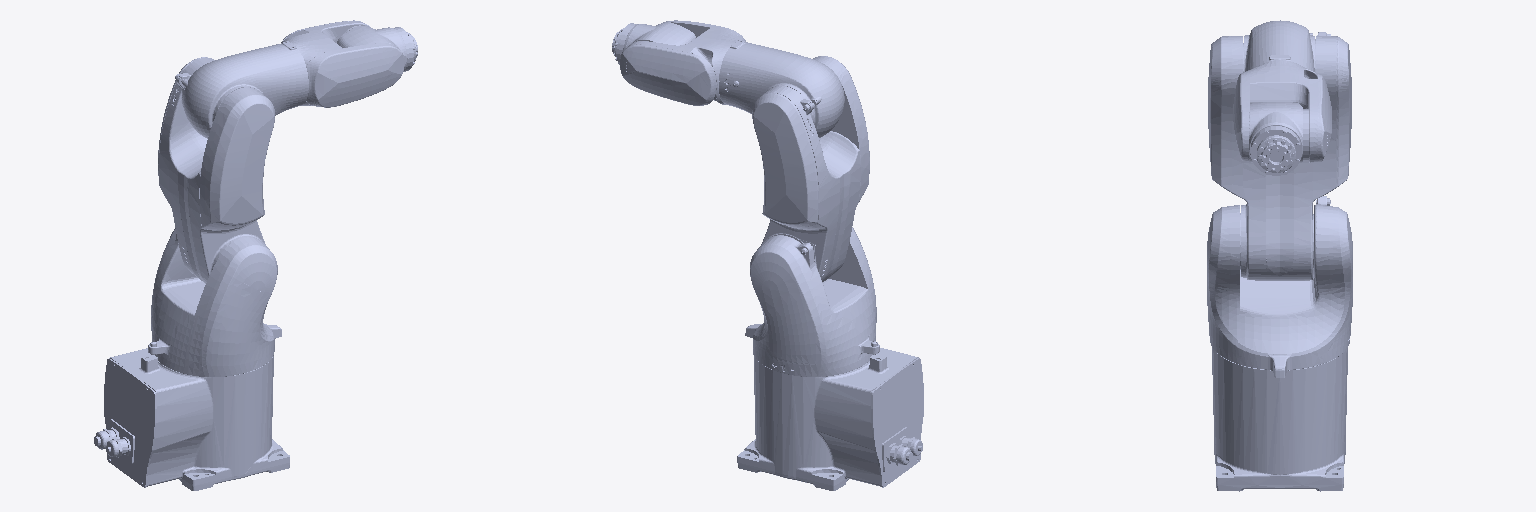
URDF robot description (kuka_kr3r540):
<?xml version="1.0" encoding="utf-8"?>
<!-- This URDF was automatically created by SolidWorks to URDF Exporter! Originally created by Stephen Brawner (brawner@gmail.com) 
     Commit Version: 1.6.0-4-g7f85cfe  Build Version: 1.6.7995.38578
     For more information, please see http://wiki.ros.org/sw_urdf_exporter -->
<robot
  name="kuka_kr3r540">
  <link
    name="base_link">
    <inertial>
      <origin
        xyz="-0.0315215334491069 0.000127934545352644 0.0932751186847806"
        rpy="0 0 0" />
      <mass
        value="6.53990364753836" />
      <inertia
        ixx="0.0308755177896678"
        ixy="1.36921645693399E-05"
        ixz="0.000970615859487308"
        iyy="0.0443024186474305"
        iyz="1.92918544432685E-05"
        izz="0.0409064329987161" />
    </inertial>
    <visual>
      <origin
        xyz="0 0 0"
        rpy="0 0 0" />
      <geometry>
        <mesh
          filename="package://kuka_kr3r540/meshes/base_link.STL" />
      </geometry>
      <material
        name="">
        <color
          rgba="0.792156862745098 0.819607843137255 0.933333333333333 1" />
      </material>
    </visual>
    <collision>
      <origin
        xyz="0 0 0"
        rpy="0 0 0" />
      <geometry>
        <mesh
          filename="package://kuka_kr3r540/meshes/base_link.STL" />
      </geometry>
    </collision>
  </link>
  <link
    name="link_1">
    <inertial>
      <origin
        xyz="-0.00347527630294494 0.00146687041683748 0.0799060429892857"
        rpy="0 0 0" />
      <mass
        value="3.42720461006245" />
      <inertia
        ixx="0.0207749925885075"
        ixy="-7.66254104537309E-05"
        ixz="-0.000782213543881521"
        iyy="0.0147106901193313"
        iyz="-0.000401328684423683"
        izz="0.0167138947911378" />
    </inertial>
    <visual>
      <origin
        xyz="0 0 0"
        rpy="0 0 0" />
      <geometry>
        <mesh
          filename="package://kuka_kr3r540/meshes/link_1.STL" />
      </geometry>
      <material
        name="">
        <color
          rgba="0.792156862745098 0.819607843137255 0.933333333333333 1" />
      </material>
    </visual>
    <collision>
      <origin
        xyz="0 0 0"
        rpy="0 0 0" />
      <geometry>
        <mesh
          filename="package://kuka_kr3r540/meshes/link_1.STL" />
      </geometry>
    </collision>
  </link>
  <joint
    name="link_1"
    type="revolute">
    <origin
      xyz="0 0 0.174"
      rpy="0 0 0" />
    <parent
      link="base_link" />
    <child
      link="link_1" />
    <axis
      xyz="0 0 -1" />
    <limit
      lower="0"
      upper="0"
      effort="0"
      velocity="0" />
  </joint>
  <link
    name="link_2">
    <inertial>
      <origin
        xyz="-0.0152161581050558 0.113260424033406 -0.00407221104623747"
        rpy="0 0 0" />
      <mass
        value="3.90844428783183" />
      <inertia
        ixx="0.0407062041948961"
        ixy="0.00119142225616104"
        ixz="-6.16799531268559E-05"
        iyy="0.0143455893423302"
        iyz="0.000369695006513654"
        izz="0.0329965012646771" />
    </inertial>
    <visual>
      <origin
        xyz="0 0 0"
        rpy="0 0 0" />
      <geometry>
        <mesh
          filename="package://kuka_kr3r540/meshes/link_2.STL" />
      </geometry>
      <material
        name="">
        <color
          rgba="0.792156862745098 0.819607843137255 0.933333333333333 1" />
      </material>
    </visual>
    <collision>
      <origin
        xyz="0 0 0"
        rpy="0 0 0" />
      <geometry>
        <mesh
          filename="package://kuka_kr3r540/meshes/link_2.STL" />
      </geometry>
    </collision>
  </link>
  <joint
    name="link_2"
    type="revolute">
    <origin
      xyz="0.02 -0.00500000000000007 0.171"
      rpy="1.5707963267949 0 0" />
    <parent
      link="link_1" />
    <child
      link="link_2" />
    <axis
      xyz="0 0 1" />
    <limit
      lower="0"
      upper="0"
      effort="0"
      velocity="0" />

  </joint>
  <link
    name="link_3">
    <inertial>
      <origin
        xyz="0.0267316809386721 0.00786487816363779 -0.00523015064599635"
        rpy="0 0 0" />
      <mass
        value="1.69261191480765" />
      <inertia
        ixx="0.00290351011400953"
        ixy="-0.000540432932465841"
        ixz="-1.12474422975479E-05"
        iyy="0.00491661101533114"
        iyz="-1.90018625756183E-06"
        izz="0.00517569910103663" />
    </inertial>
    <visual>
      <origin
        xyz="0 0 0"
        rpy="0 0 0" />
      <geometry>
        <mesh
          filename="package://kuka_kr3r540/meshes/link_3.STL" />
      </geometry>
      <material
        name="">
        <color
          rgba="0.792156862745098 0.819607843137255 0.933333333333333 1" />
      </material>
    </visual>
    <collision>
      <origin
        xyz="0 0 0"
        rpy="0 0 0" />
      <geometry>
        <mesh
          filename="package://kuka_kr3r540/meshes/link_3.STL" />
      </geometry>
    </collision>
  </link>
  <joint
    name="link_3"
    type="revolute">
    <origin
      xyz="0 0.26 0"
      rpy="0 0 0" />
    <parent
      link="link_2" />
    <child
      link="link_3" />
    <axis
      xyz="0 0 1" />
    <limit
      lower="0"
      upper="0"
      effort="0"
      velocity="0" />
  </joint>
  <link
    name="link_4">
    <inertial>
      <origin
        xyz="-0.00157151065427075 0.00432427194682562 0.0692391531530879"
        rpy="0 0 0" />
      <mass
        value="1.14767762507171" />
      <inertia
        ixx="0.00255700844629093"
        ixy="3.77554451600597E-05"
        ixz="-1.51304775162778E-05"
        iyy="0.00251855136364077"
        iyz="-0.000450681957366282"
        izz="0.00129205358044388" />
    </inertial>
    <visual>
      <origin
        xyz="0 0 0"
        rpy="0 0 0" />
      <geometry>
        <mesh
          filename="package://kuka_kr3r540/meshes/link_4.STL" />
      </geometry>
      <material
        name="">
        <color
          rgba="0.792156862745098 0.819607843137255 0.933333333333333 1" />
      </material>
    </visual>
    <collision>
      <origin
        xyz="0 0 0"
        rpy="0 0 0" />
      <geometry>
        <mesh
          filename="package://kuka_kr3r540/meshes/link_4.STL" />
      </geometry>
    </collision>
  </link>
  <joint
    name="link_4"
    type="revolute">
    <origin
      xyz="0.1132 0.02 -0.00500000000000007"
      rpy="-1.5707963267949 0 -1.5707963267949" />
    <parent
      link="link_3" />
    <child
      link="link_4" />
    <axis
      xyz="0 0 -1" />
    <limit
      lower="0"
      upper="0"
      effort="0"
      velocity="0" />
  </joint>
  <link
    name="link_5">
    <inertial>
      <origin
        xyz="0.0047129687475605 -2.37906146405287E-06 0.00478165544401733"
        rpy="0 0 0" />
      <mass
        value="0.584336624690809" />
      <inertia
        ixx="0.000523706801030854"
        ixy="-5.49045190362393E-08"
        ixz="6.19713080131327E-06"
        iyy="0.000784504245692702"
        iyz="-4.46639526261555E-08"
        izz="0.000718574490112889" />
    </inertial>
    <visual>
      <origin
        xyz="0 0 0"
        rpy="0 0 0" />
      <geometry>
        <mesh
          filename="package://kuka_kr3r540/meshes/link_5.STL" />
      </geometry>
      <material
        name="">
        <color
          rgba="0.792156862745098 0.819607843137255 0.933333333333333 1" />
      </material>
    </visual>
    <collision>
      <origin
        xyz="0 0 0"
        rpy="0 0 0" />
      <geometry>
        <mesh
          filename="package://kuka_kr3r540/meshes/link_5.STL" />
      </geometry>
    </collision>
  </link>
  <joint
    name="link_5"
    type="revolute">
    <origin
      xyz="0 0 0.1431"
      rpy="1.5707963267949 -1.5707963267949 0" />
    <parent
      link="link_4" />
    <child
      link="link_5" />
    <axis
      xyz="0 0 1" />
    <limit
      lower="0"
      upper="0"
      effort="0"
      velocity="0" />
  </joint>
  <link
    name="link_6">
    <inertial>
      <origin
        xyz="8.4514159476301E-06 -7.22536337332148E-06 0.00341264638032301"
        rpy="0 0 0" />
      <mass
        value="0.0159930738776412" />
      <inertia
        ixx="2.95913926163124E-06"
        ixy="-1.23565943741865E-11"
        ixz="-4.31831698776573E-10"
        iyy="2.95907465303504E-06"
        iyz="-3.34677151672995E-10"
        izz="5.51966460861193E-06" />
    </inertial>
    <visual>
      <origin
        xyz="0 0 0"
        rpy="0 0 0" />
      <geometry>
        <mesh
          filename="package://kuka_kr3r540/meshes/link_6.STL" />
      </geometry>
      <material
        name="">
        <color
          rgba="0.792156862745098 0.819607843137255 0.933333333333333 1" />
      </material>
    </visual>
    <collision>
      <origin
        xyz="0 0 0"
        rpy="0 0 0" />
      <geometry>
        <mesh
          filename="package://kuka_kr3r540/meshes/link_6.STL" />
      </geometry>
    </collision>
  </link>
  <joint
    name="link_6"
    type="revolute">
    <origin
      xyz="0.0639999999999999 0 0.00500000000000002"
      rpy="-1.5707963267949 0 -1.5707963267949" />
    <parent
      link="link_5" />
    <child
      link="link_6" />
    <axis
      xyz="0 0 -1" />
    <limit
      lower="0"
      upper="0"
      effort="0"
      velocity="0" />
  </joint>
</robot>

--- Facts derived from the render (not from the file) ---
The picture shows the robot from 3 angles, left to right: view 1: azimuth 30°, elevation 25°; view 2: azimuth 150°, elevation 25°; view 3: azimuth 270°, elevation 25°; orthographic projection.
Model kuka_kr3r540 with 7 links and 6 joints (6 revolute), rooted at base_link, posed all joints at 0.
Visible links, largest first — view 1: base_link, link_2, link_1, link_3, link_4, link_5; view 2: base_link, link_2, link_1, link_3, link_4, link_5; view 3: link_1, link_2, base_link, link_4, link_3, link_5, link_6.
Boxes of the visible links, x1,y1,x2,y2 form: base_link: (94,348,289,490); link_2: (158,57,274,283); link_1: (148,228,281,376); link_3: (182,41,308,138); link_4: (281,20,404,107); link_5: (337,25,414,71); base_link: (737,348,923,490); link_2: (752,56,869,281); link_1: (745,227,879,376); link_3: (719,40,844,137); link_4: (620,20,745,105); link_5: (615,22,695,64); link_1: (1207,196,1352,377); link_2: (1208,32,1351,280); base_link: (1212,348,1347,491); link_4: (1233,60,1331,162); link_3: (1243,20,1317,75); link_5: (1249,102,1308,175); link_6: (1257,135,1295,172).
Bounding box of the posed robot: 0.5434 × 0.2 × 0.6765 m (x, y, z).
7 mesh visuals loaded from 7 distinct referenced files (7 binary STL).
